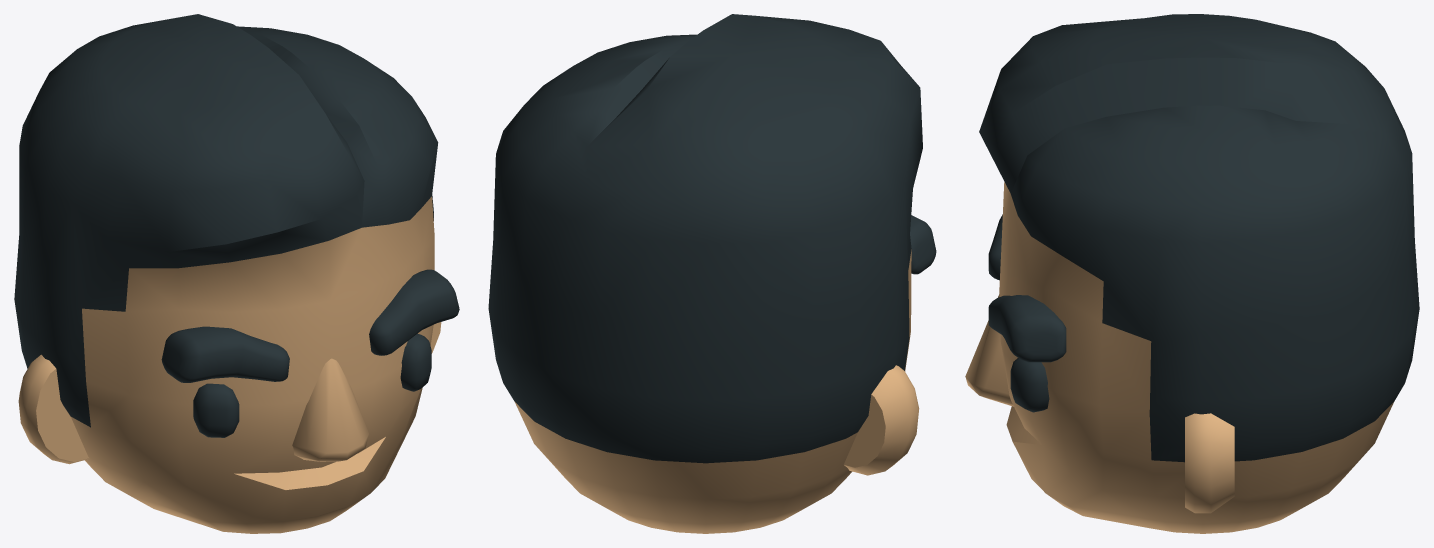
Rendered from kaykit-knightheadc.glb.
3 views of the same model, side by side, from view 1: azimuth 30°, elevation 25°; view 2: azimuth 150°, elevation 25°; view 3: azimuth 270°, elevation 25° (orthographic).
Parts seen in each view (by area): view 1: knightHeadC; view 2: knightHeadC; view 3: knightHeadC.
Part boxes in pixels (box(x1,y1,x2,y2)): knightHeadC: box(14, 14, 459, 533); knightHeadC: box(488, 14, 936, 533); knightHeadC: box(965, 14, 1419, 533).
Size of the model in its own units: 1.18 by 1.19 by 1.11.
